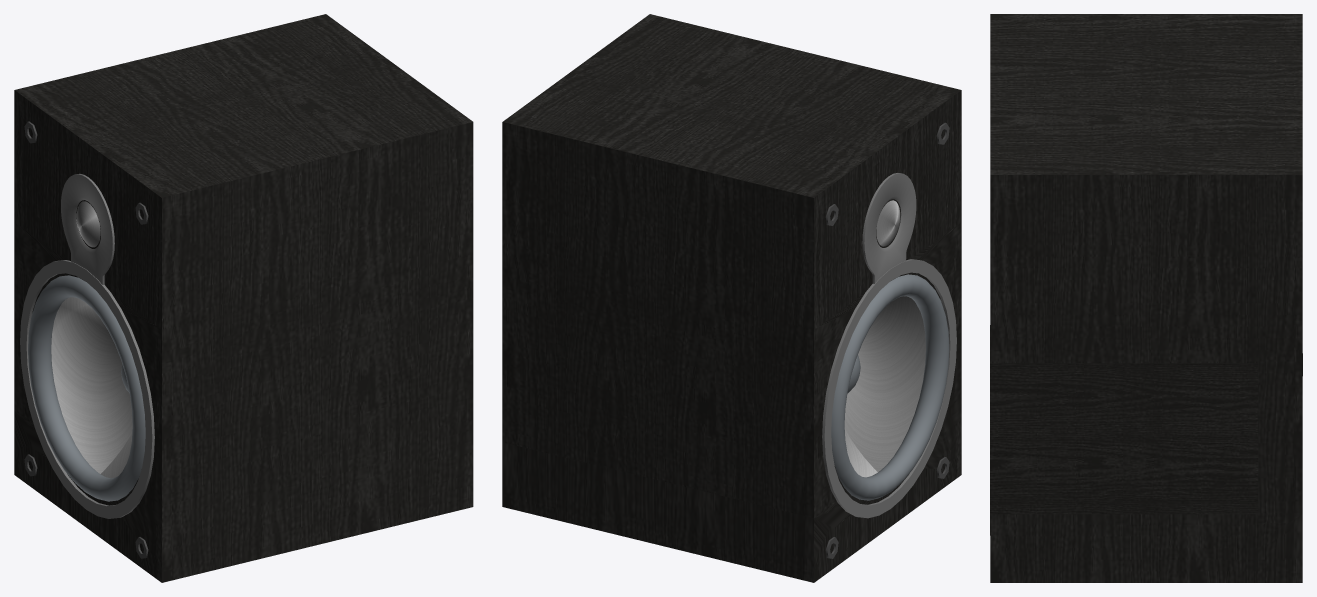
Rendered from pcu_speaker_001.fbx.
The picture shows the model from 3 angles, left to right: view 1: azimuth 30°, elevation 25°; view 2: azimuth 150°, elevation 25°; view 3: azimuth 270°, elevation 25°; orthographic projection. The views are drawn at different scales.
Parts seen in each view (by area): view 1: CASSA, Oil_Tank, Torus, Tube, Tube_1, Sphere_1; view 2: CASSA, Oil_Tank, Torus, Tube, Tube_1, Sphere_1; view 3: CASSA, Plane.
Part boxes in pixels (x1=…): CASSA: x1=14, y1=14, x2=473, y2=582; Oil_Tank: x1=51, y1=297, x2=132, y2=478; Torus: x1=28, y1=275, x2=145, y2=501; Tube: x1=20, y1=260, x2=154, y2=518; Tube_1: x1=61, y1=173, x2=114, y2=284; Sphere_1: x1=76, y1=201, x2=100, y2=247; CASSA: x1=502, y1=14, x2=961, y2=582; Oil_Tank: x1=844, y1=296, x2=925, y2=477; Torus: x1=831, y1=274, x2=949, y2=500; Tube: x1=822, y1=259, x2=956, y2=518; Tube_1: x1=862, y1=173, x2=916, y2=283; Sphere_1: x1=876, y1=200, x2=900, y2=246; CASSA: x1=990, y1=14, x2=1302, y2=582; Plane: x1=990, y1=325, x2=1258, y2=535.
Bounding box in the file's own units: 315 × 364 × 253.
6 materials, 2 textured.
